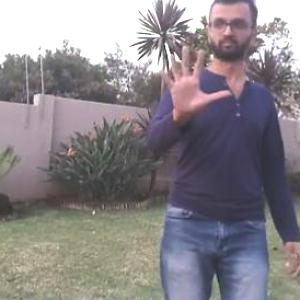follow_hand: (157, 40, 233, 120)
